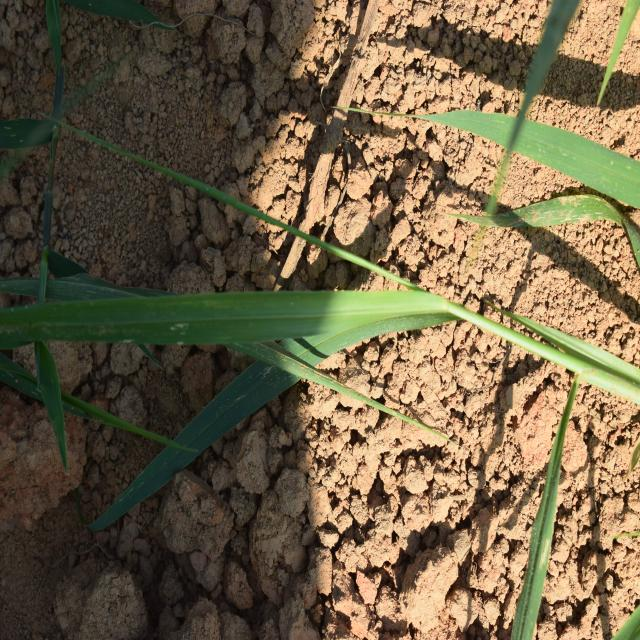green_foxtail: (14, 160, 470, 426)
